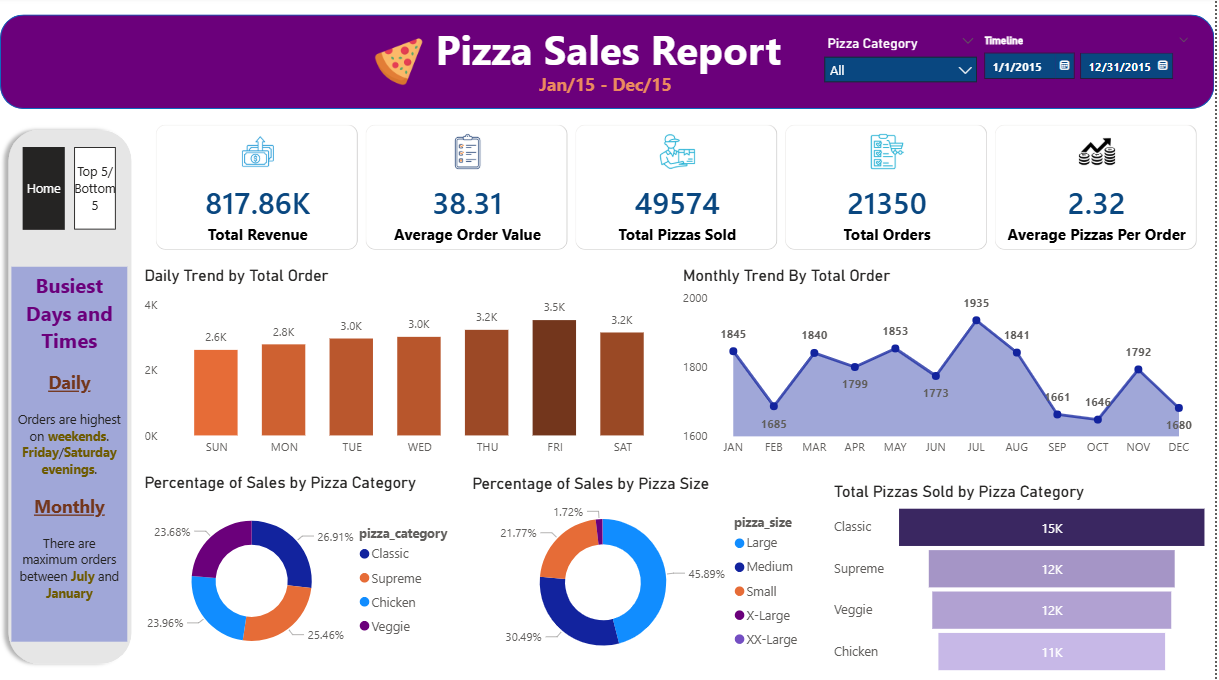

Layout of this report page (visuals, bound fields, positions):
{"tool":"powerbi","page":{"name":"Home","canvas":[1280,720],"ordinal":0},"visuals":[{"type":"cardVisual","fields":{"Data":["pizza_sales.Total Revenue","pizza_sales.Average Order Value","pizza_sales.Total Pizzas Sold","pizza_sales.Total Orders","pizza_sales.Average Pizzas Per Order"]},"box":[147.7,118.5,1131.9,166.6],"z":0},{"type":"shape","box":[0,18.9,1279.6,99.6],"z":1000},{"type":"textbox","box":[92.7,20.6,1095.8,97.9],"z":2000},{"type":"textbox","box":[563.4,75.6,156.3,39.5],"z":3000},{"type":"image","box":[393.3,42.9,53.2,51.5],"z":4000},{"type":"clusteredColumnChart","title":"Daily Trend by Total Order","fields":{"Category":["pizza_sales.Order Day"],"Y":["pizza_sales.Total Orders"]},"box":[147.7,285.1,566.8,207.8],"z":5000},{"type":"areaChart","title":"Monthly Trend By Total Order","fields":{"Y":["pizza_sales.Total Orders"],"Category":["pizza_sales.Order Month"]},"box":[714.5,285.1,549.6,207.8],"z":6000},{"type":"donutChart","title":"Percentage of Sales by Pizza Category","fields":{"Category":["pizza_sales.pizza_category"],"Y":["pizza_sales.Total Revenue"]},"box":[147.7,503.2,345.2,207.8],"z":7000},{"type":"donutChart","title":"Percentage of Sales by Pizza Size","fields":{"Category":["pizza_sales.pizza_size"],"Y":["pizza_sales.Total Revenue"]},"box":[492.9,505,365.8,207.8],"z":8000},{"type":"funnel","title":"Total Pizzas Sold by Pizza Category","fields":{"Y":["pizza_sales.Total Pizzas Sold"],"Category":["pizza_sales.pizza_category"]},"box":[874.2,511.8,405.3,207.8],"z":9000},{"type":"shape","box":[0,132.3,147.7,580.5],"z":10000},{"type":"slicer","fields":{"Values":["pizza_sales.pizza_category"]},"box":[858.8,36.1,180.3,67],"z":11000},{"type":"slicer","fields":{"Values":["pizza_sales.order_date"]},"box":[1023.7,36.1,240.5,79],"z":12000},{"type":"textbox","box":[12,285.1,121.9,395],"z":13000},{"type":"pageNavigator","box":[24,159.7,99.6,87.6],"z":13001}]}

Visuals, with their boxes in screenshot pixels (x1, y1, x2, y2), scaled from the page's 1280x720 canvas onto the 1219x680 screenshot:
cardVisual - pizza_sales.Total Revenue x pizza_sales.Average Order Value: (141, 112, 1218, 269)
shape: (0, 18, 1218, 112)
textbox: (88, 19, 1132, 112)
textbox: (537, 71, 685, 109)
image: (375, 41, 425, 89)
"Daily Trend by Total Order" clusteredColumnChart: (141, 269, 680, 466)
"Monthly Trend By Total Order" areaChart: (680, 269, 1204, 466)
"Percentage of Sales by Pizza Category" donutChart: (141, 475, 469, 672)
"Percentage of Sales by Pizza Size" donutChart: (469, 477, 818, 673)
"Total Pizzas Sold by Pizza Category" funnel: (833, 483, 1218, 679)
shape: (0, 125, 141, 673)
slicer - pizza_sales.pizza_category: (818, 34, 990, 97)
slicer - pizza_sales.order_date: (975, 34, 1204, 109)
textbox: (11, 269, 128, 642)
pageNavigator: (23, 151, 118, 234)
